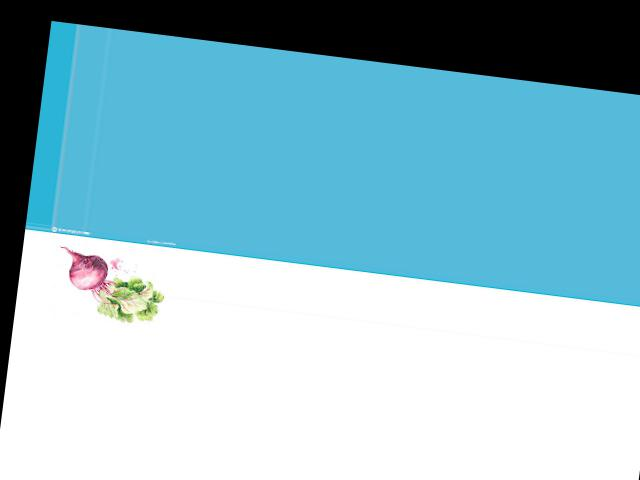beet: (52, 245, 169, 326)
